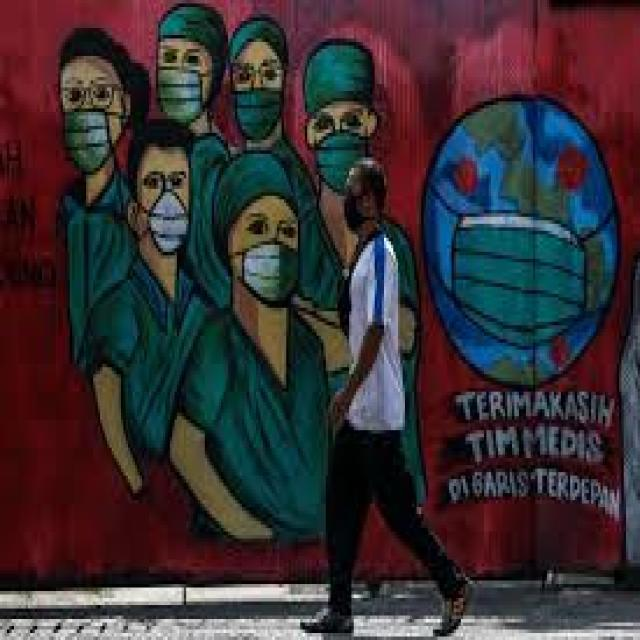-: (54, 4, 427, 546), (427, 91, 626, 527), (3, 141, 54, 303)
